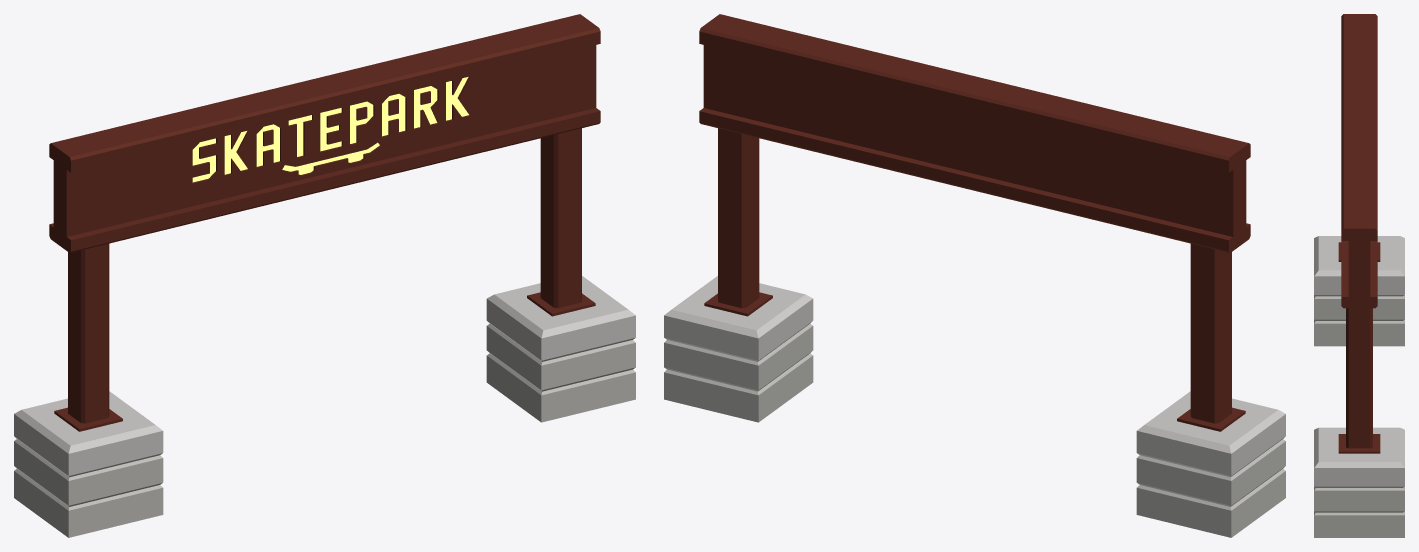
Rendered from skatepark-entrance-gateway-659bf3.glb.
The picture shows the model from 3 angles, left to right: view 1: azimuth 30°, elevation 25°; view 2: azimuth 150°, elevation 25°; view 3: azimuth 270°, elevation 25°; orthographic projection. The views are drawn at different scales.
Parts seen in each view (by area): view 1: gateway, letter-glow; view 2: gateway; view 3: gateway.
Part boxes in pixels (left/top/right/bottom): gateway: left=14, top=14, right=635, bottom=537; letter-glow: left=192, top=77, right=468, bottom=182; gateway: left=664, top=14, right=1285, bottom=537; gateway: left=1314, top=14, right=1404, bottom=537.
Bounding box in the file's own units: 6 × 3.67 × 1.
